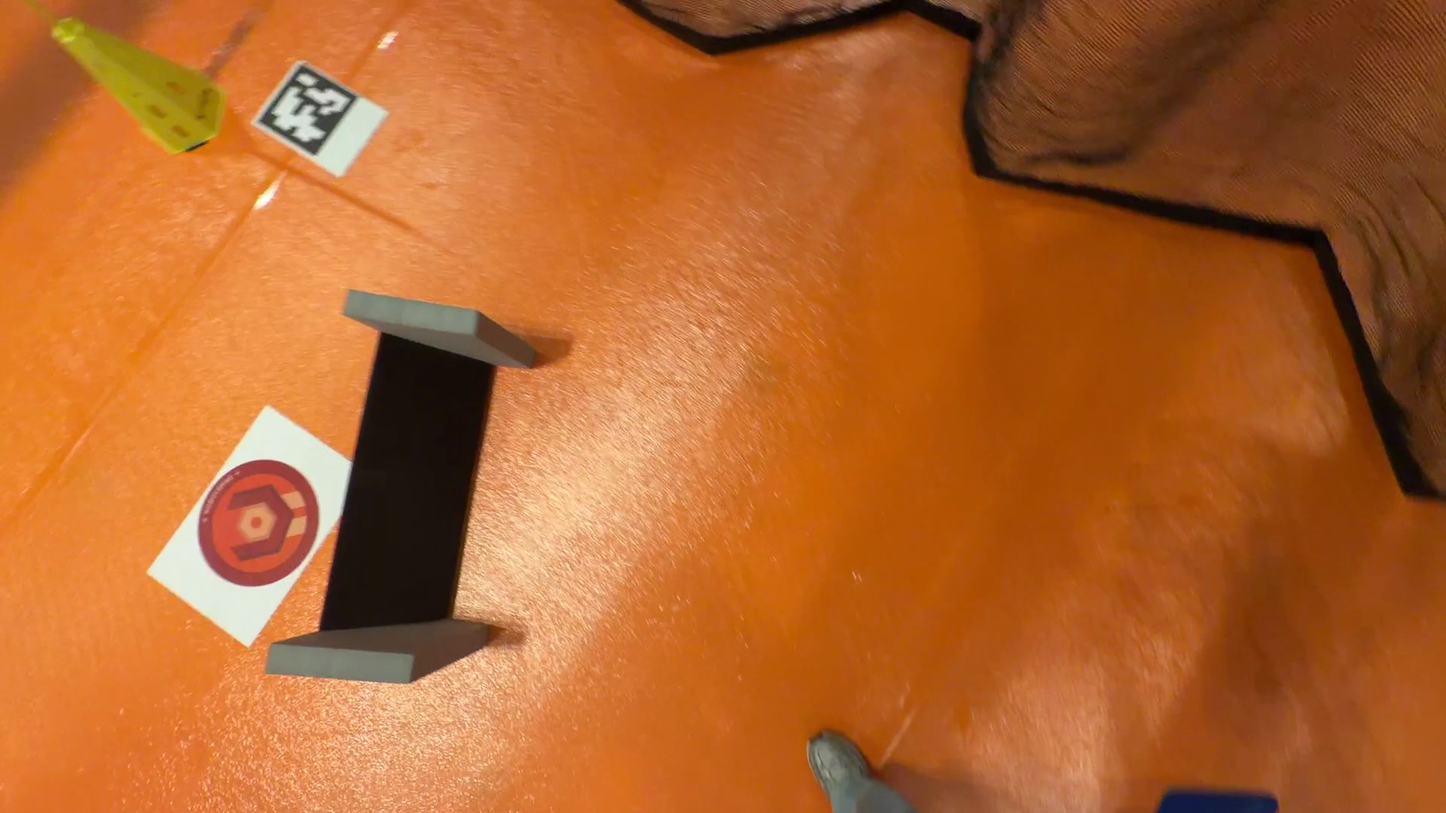landing_pad: (197, 463, 322, 589)
